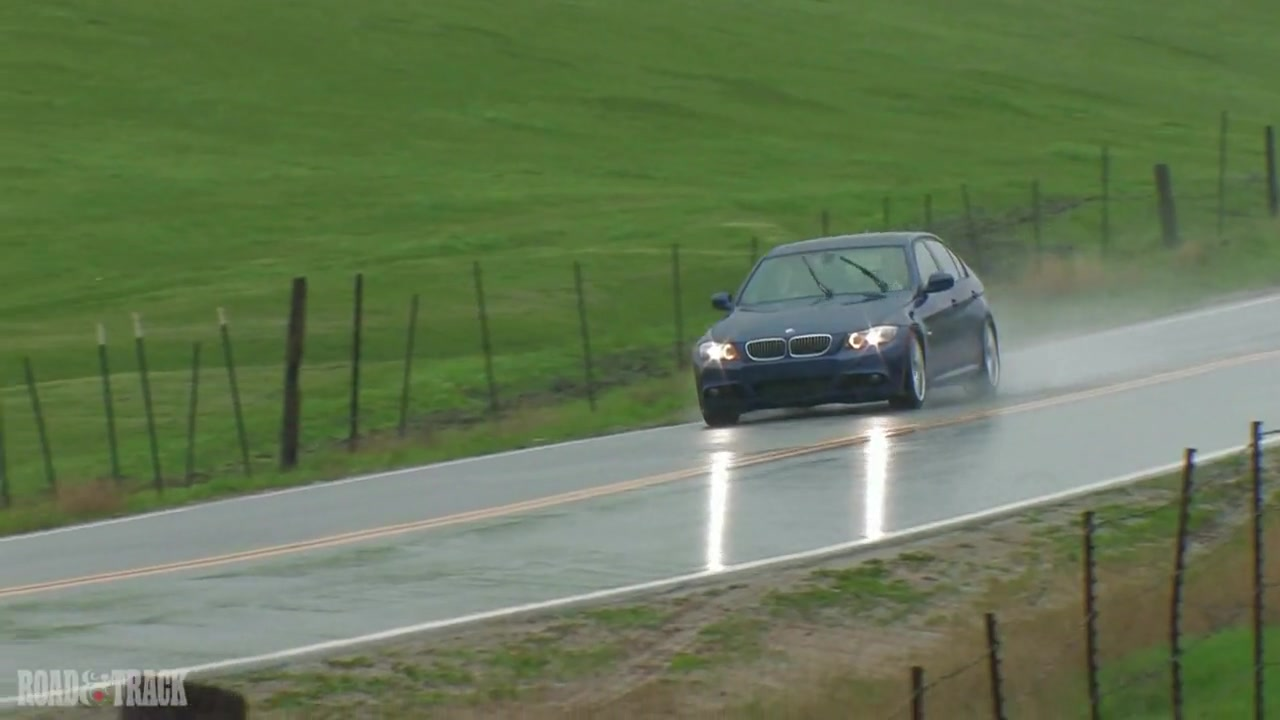car: (689, 228, 1004, 425)
